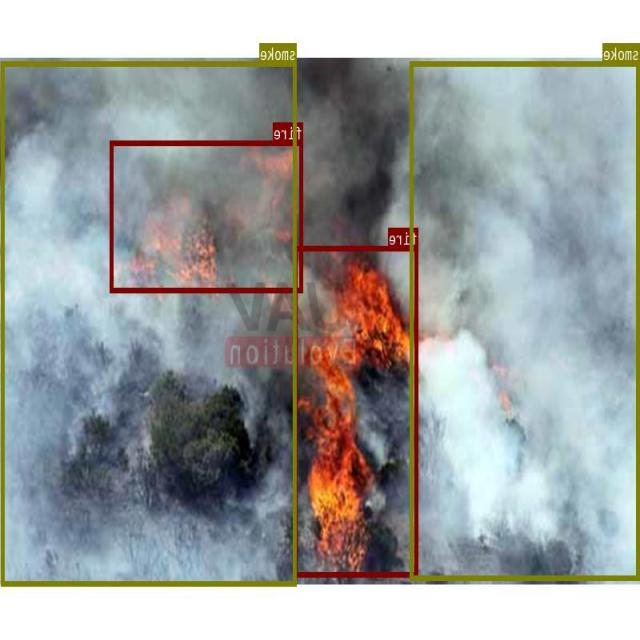fire: (295, 246, 419, 576), (111, 140, 303, 292)
smoke: (2, 60, 297, 585), (411, 60, 640, 580)
